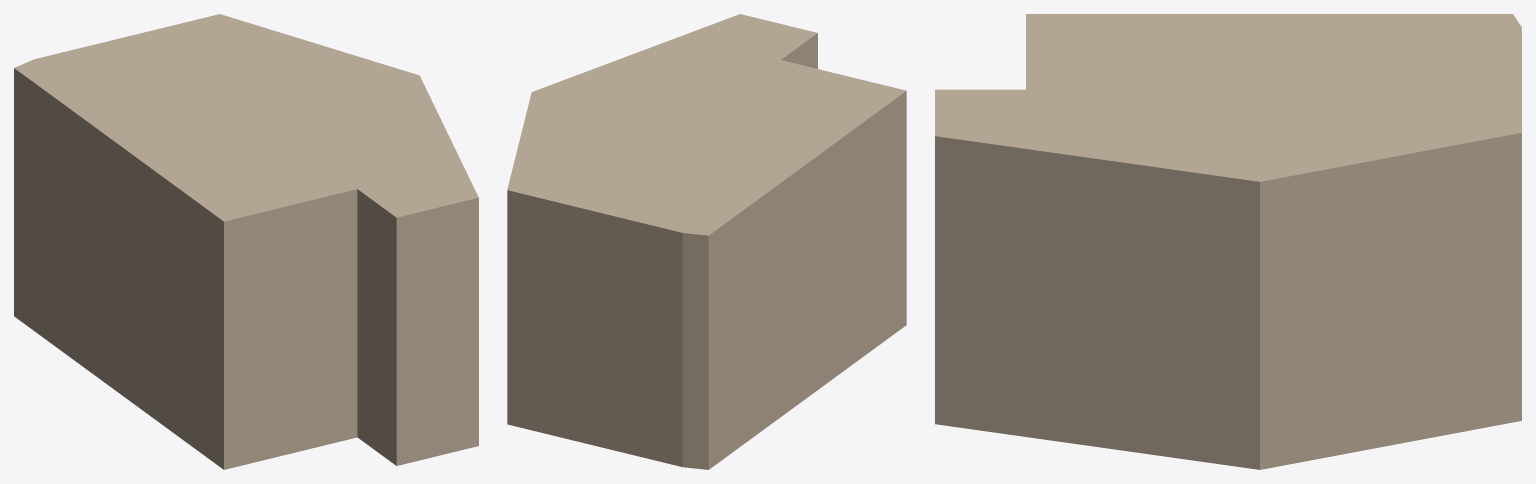
The model's file is massing.glb.
3 renders of one model, left to right at view 1: azimuth 30°, elevation 25°; view 2: azimuth 150°, elevation 25°; view 3: azimuth 270°, elevation 25°, orthographic. The views are drawn at different scales.
Parts seen in each view (by area): view 1: building/exterior; view 2: building/exterior; view 3: building/exterior.
Part boxes in pixels (x1,y1,x2,y2): building/exterior: (14, 14, 478, 469); building/exterior: (507, 14, 906, 469); building/exterior: (935, 14, 1521, 469).
Bounding box in the file's own units: 11 × 8.8 × 16.25.
